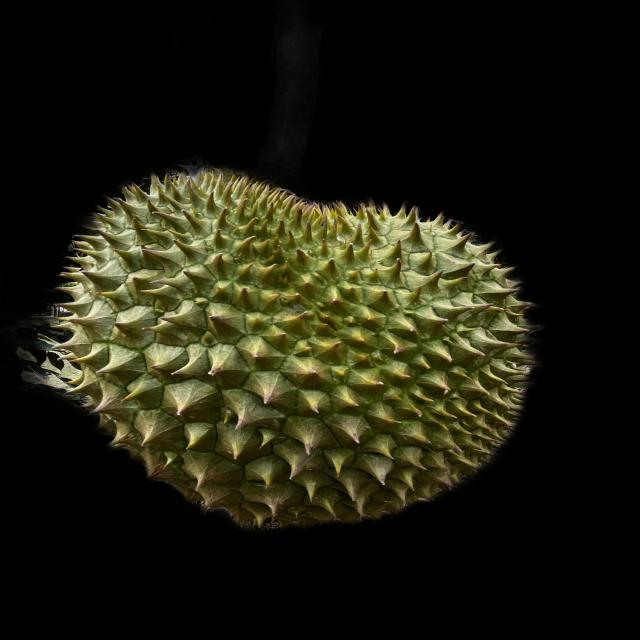immature: (49, 169, 536, 533)
